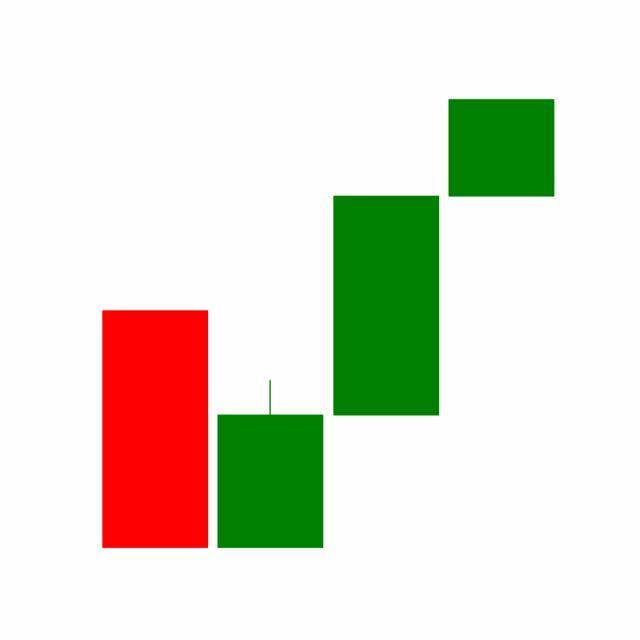Marubozu: (444, 98, 560, 198)
